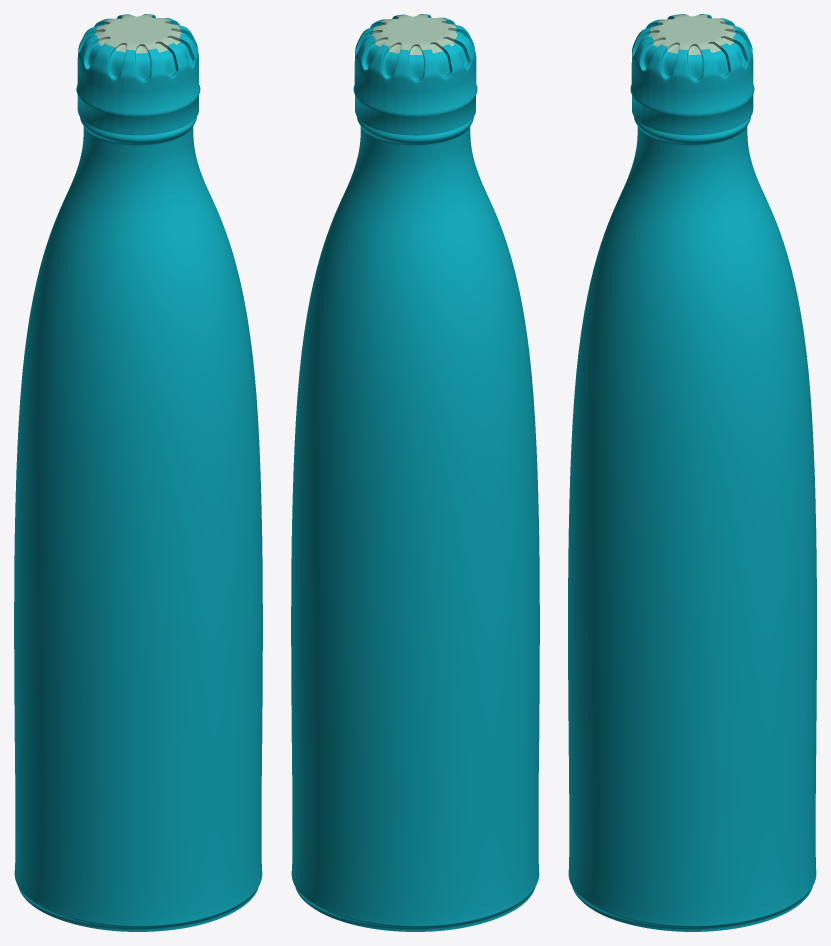
The model's file is bottle-slim.glb.
3 renders of one model, left to right at view 1: azimuth 30°, elevation 25°; view 2: azimuth 150°, elevation 25°; view 3: azimuth 270°, elevation 25°, orthographic.
Visible parts, largest first — view 1: Object_13, Object_4, Object_7; view 2: Object_13, Object_4, Object_7; view 3: Object_13, Object_4, Object_7.
Part boxes in pixels (x1,y1,x2,y2): Object_13: [14, 117, 262, 931]; Object_4: [76, 14, 200, 135]; Object_7: [95, 14, 181, 53]; Object_13: [291, 117, 539, 931]; Object_4: [353, 14, 477, 135]; Object_7: [372, 14, 457, 54]; Object_13: [568, 117, 816, 931]; Object_4: [630, 14, 754, 135]; Object_7: [648, 14, 735, 54].
Bounding box in the file's own units: 0.7756 × 2.92 × 0.7756.
